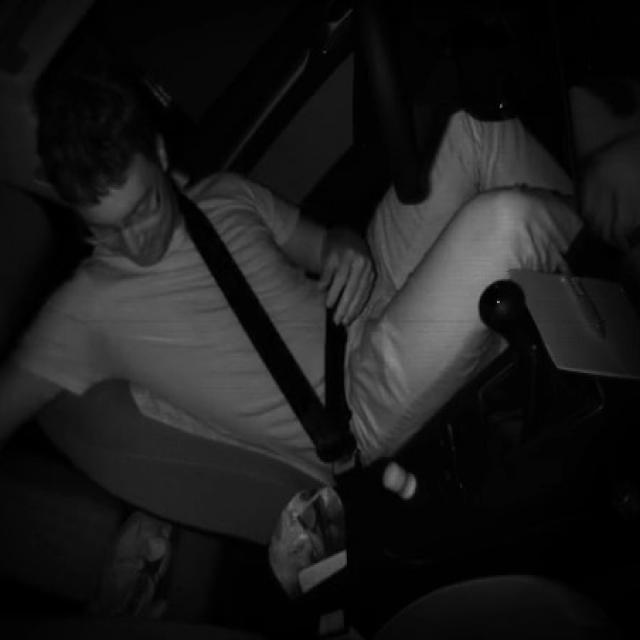pen: (554, 241, 610, 345)
